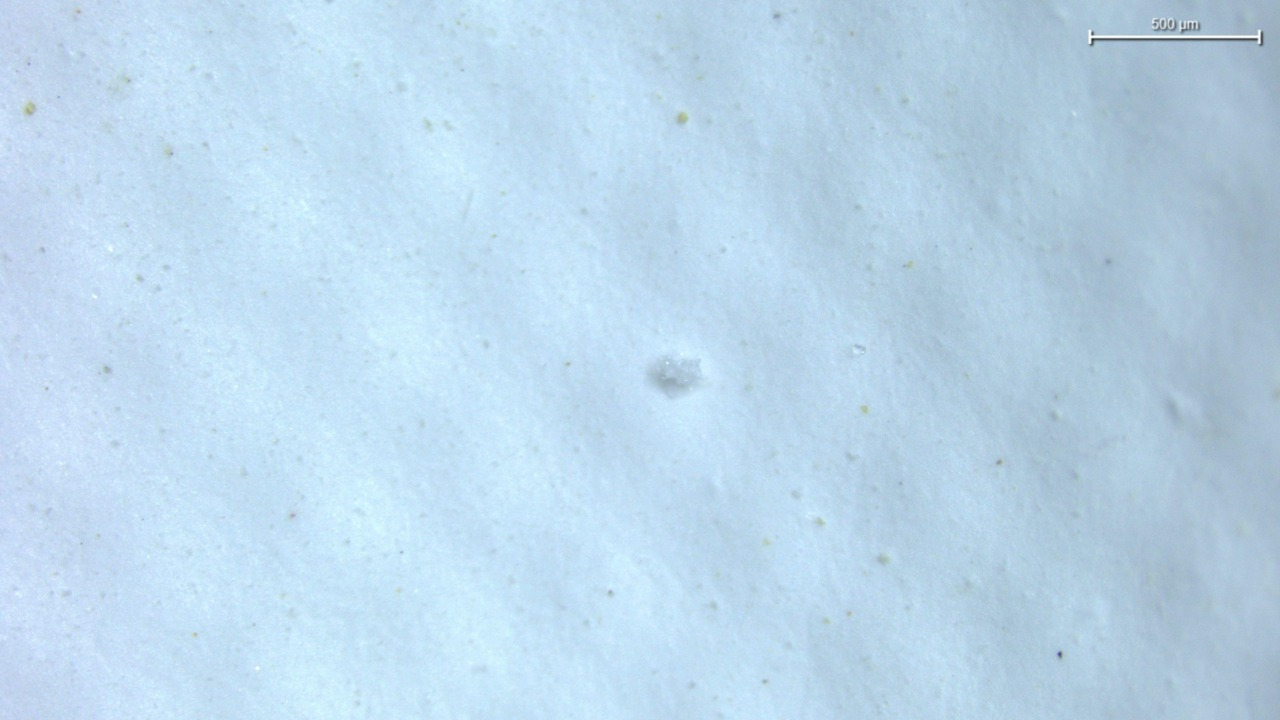microplastic_fragment: (647, 355, 703, 398)
